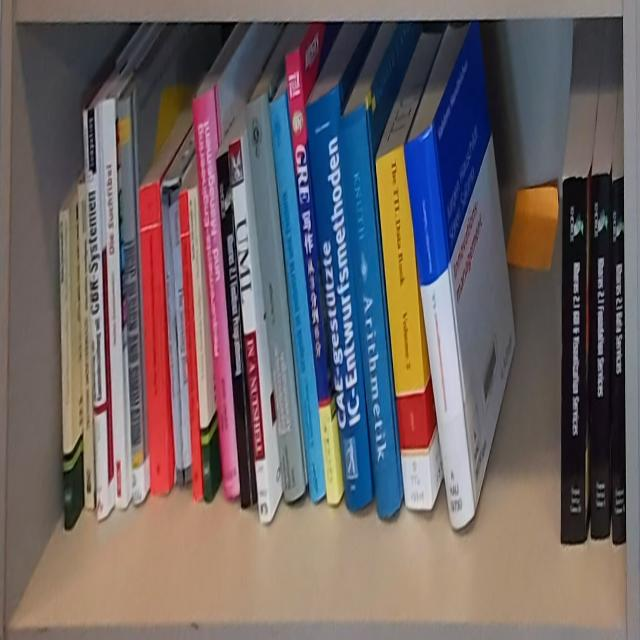Book Spine: (305, 84, 374, 515), (404, 124, 476, 533), (337, 104, 403, 523), (283, 50, 341, 508), (245, 94, 306, 504), (268, 96, 327, 508), (373, 146, 433, 509), (192, 89, 241, 501), (228, 141, 272, 524), (216, 152, 259, 512), (116, 99, 145, 511), (82, 108, 109, 523), (101, 98, 127, 512), (138, 182, 170, 499), (561, 178, 587, 542), (186, 187, 212, 501), (590, 175, 611, 541), (180, 194, 204, 506), (160, 193, 185, 489), (170, 190, 193, 485), (76, 184, 96, 512), (611, 176, 627, 545), (58, 210, 75, 532)
